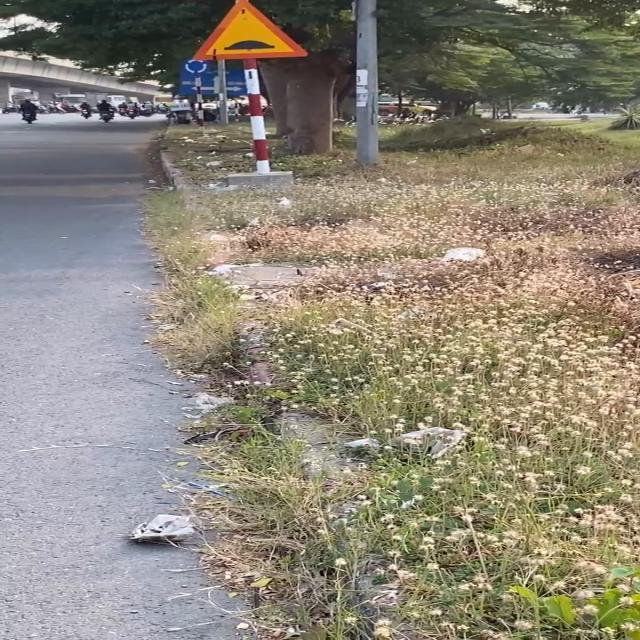221-duong-go-ghe: (192, 0, 314, 60)
303-noi-giao-nhau-chay-theo-vong-xuyen: (184, 59, 209, 74)
